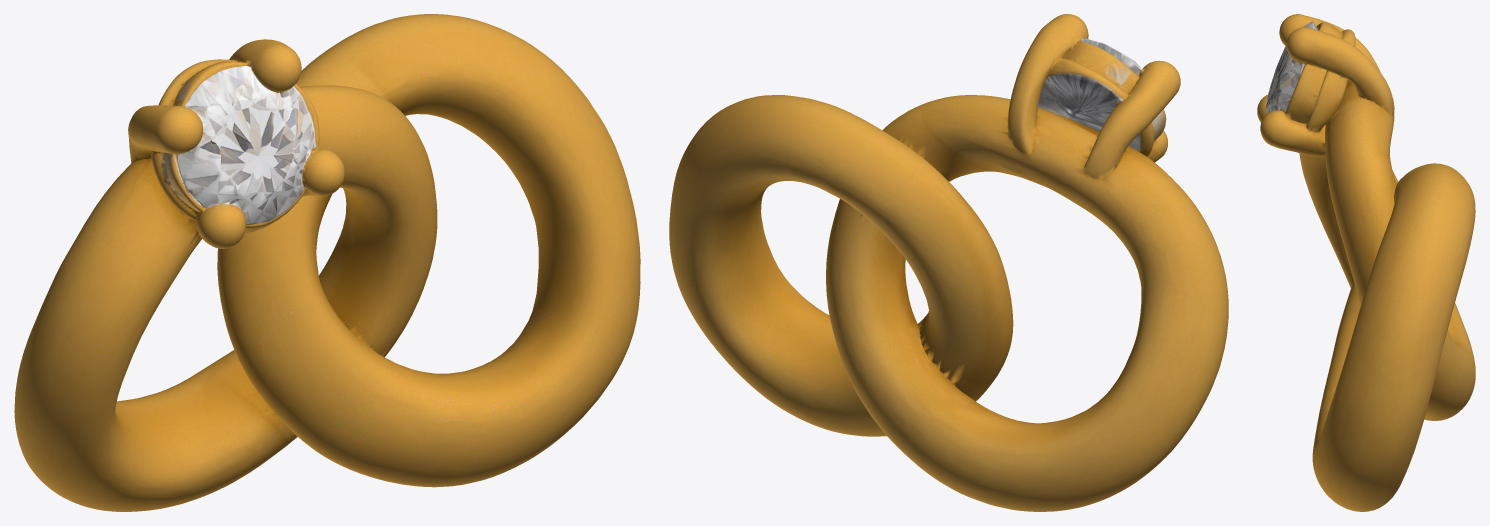
Rendered from wedding_rings.glb.
The picture shows the model from 3 angles, left to right: view 1: azimuth 30°, elevation 25°; view 2: azimuth 150°, elevation 25°; view 3: azimuth 270°, elevation 25°; orthographic projection. The views are drawn at different scales.
Bounding box in the file's own units: 1.9 × 1.51 × 0.7709.
1 material, 1 textured.
